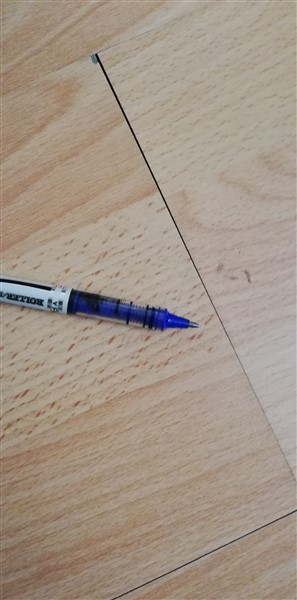pilot kalem: (1, 270, 206, 338)
